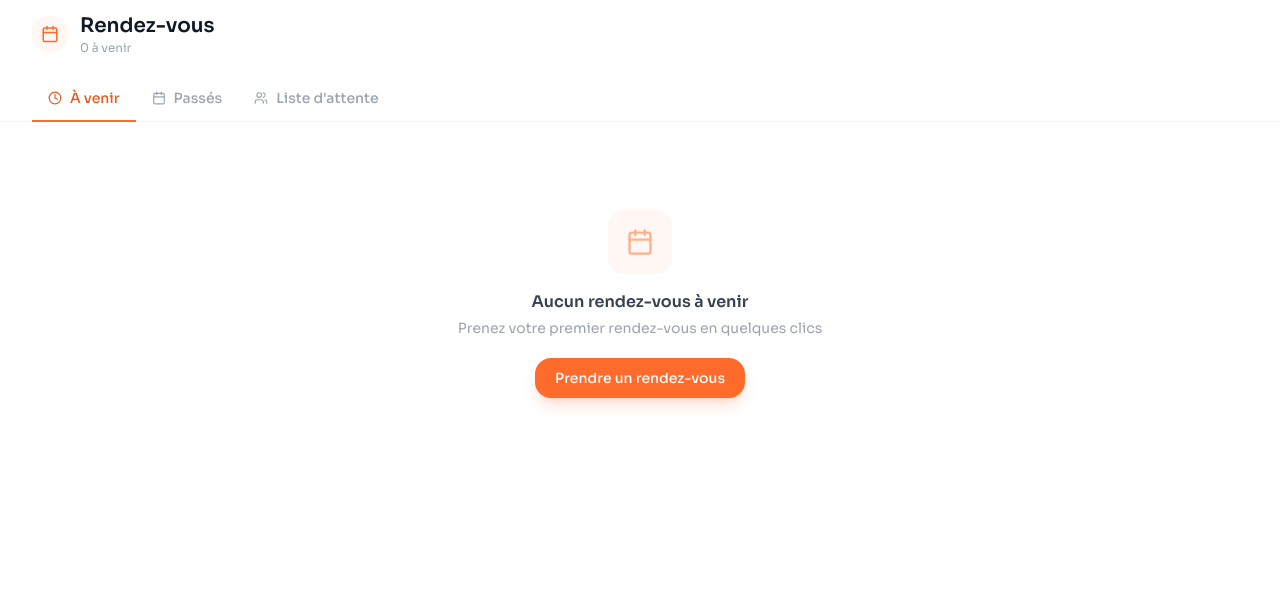
Test case: AppointmentsPage › préremplit le nom et mémorise la date de la liste d'attente
Check: the text "Aucun rendez-vous à venir" is shown, box [532,291,748,312]
Click the button "Liste d'attente" at (316, 99), box [238,76,395,122]
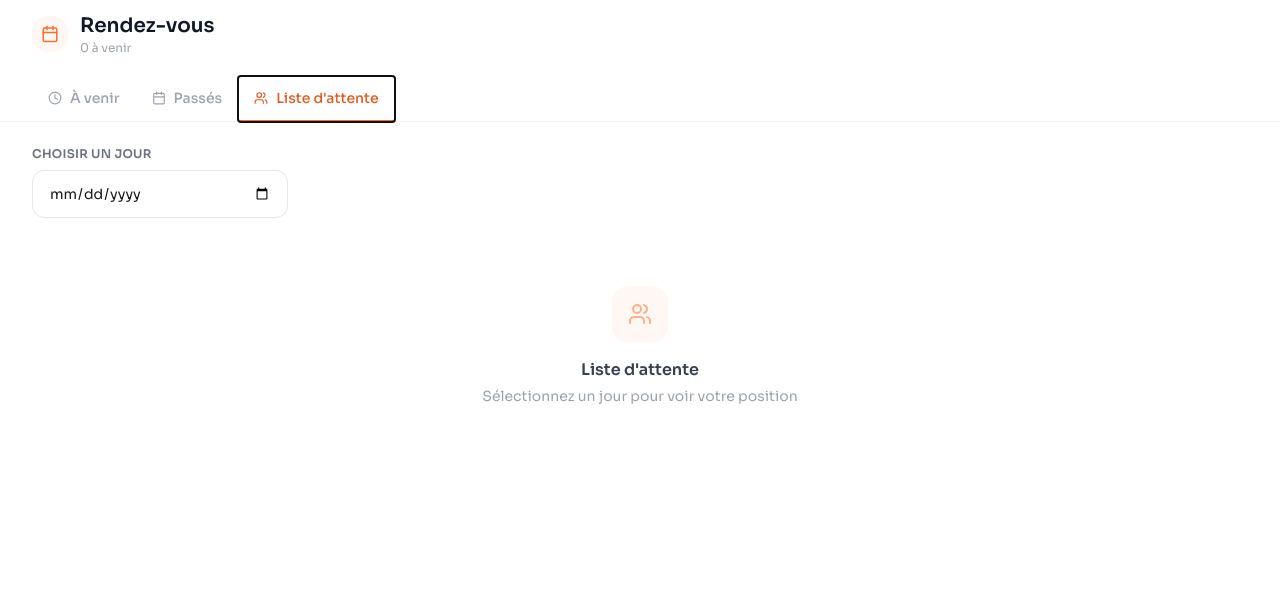
Type "2030-01-15" into the date field at (160, 194), box [32,170,288,218]
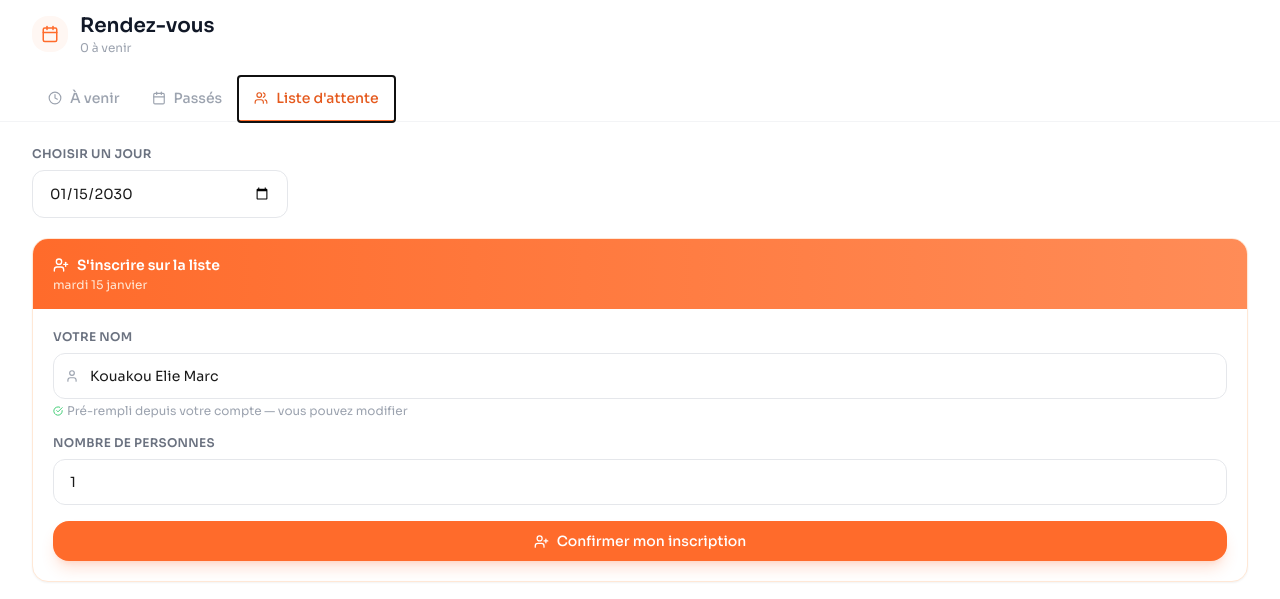
Check: the field with placeholder "Nom complet" holds "Kouakou Elie Marc", box [53,353,1227,399]
